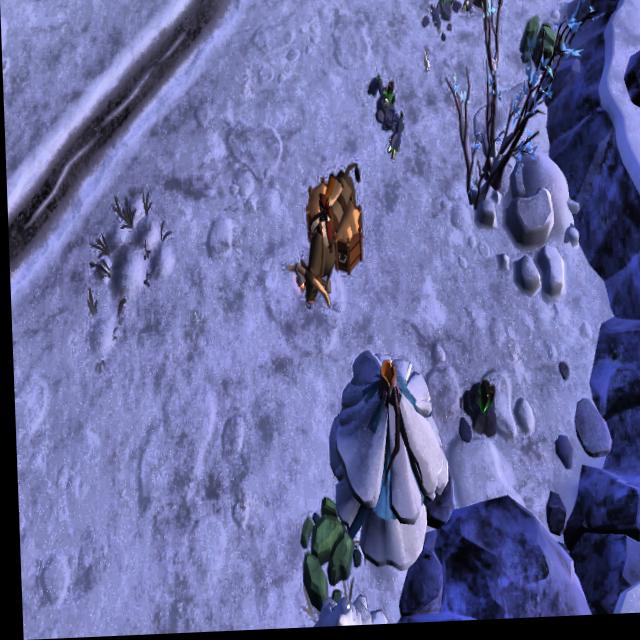ore_t3: (474, 385, 492, 417)
rock_t3: (288, 490, 360, 614), (519, 12, 562, 78)
